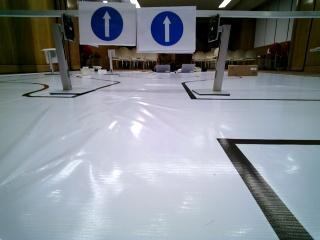straight: (138, 5, 195, 55), (77, 2, 136, 43)
